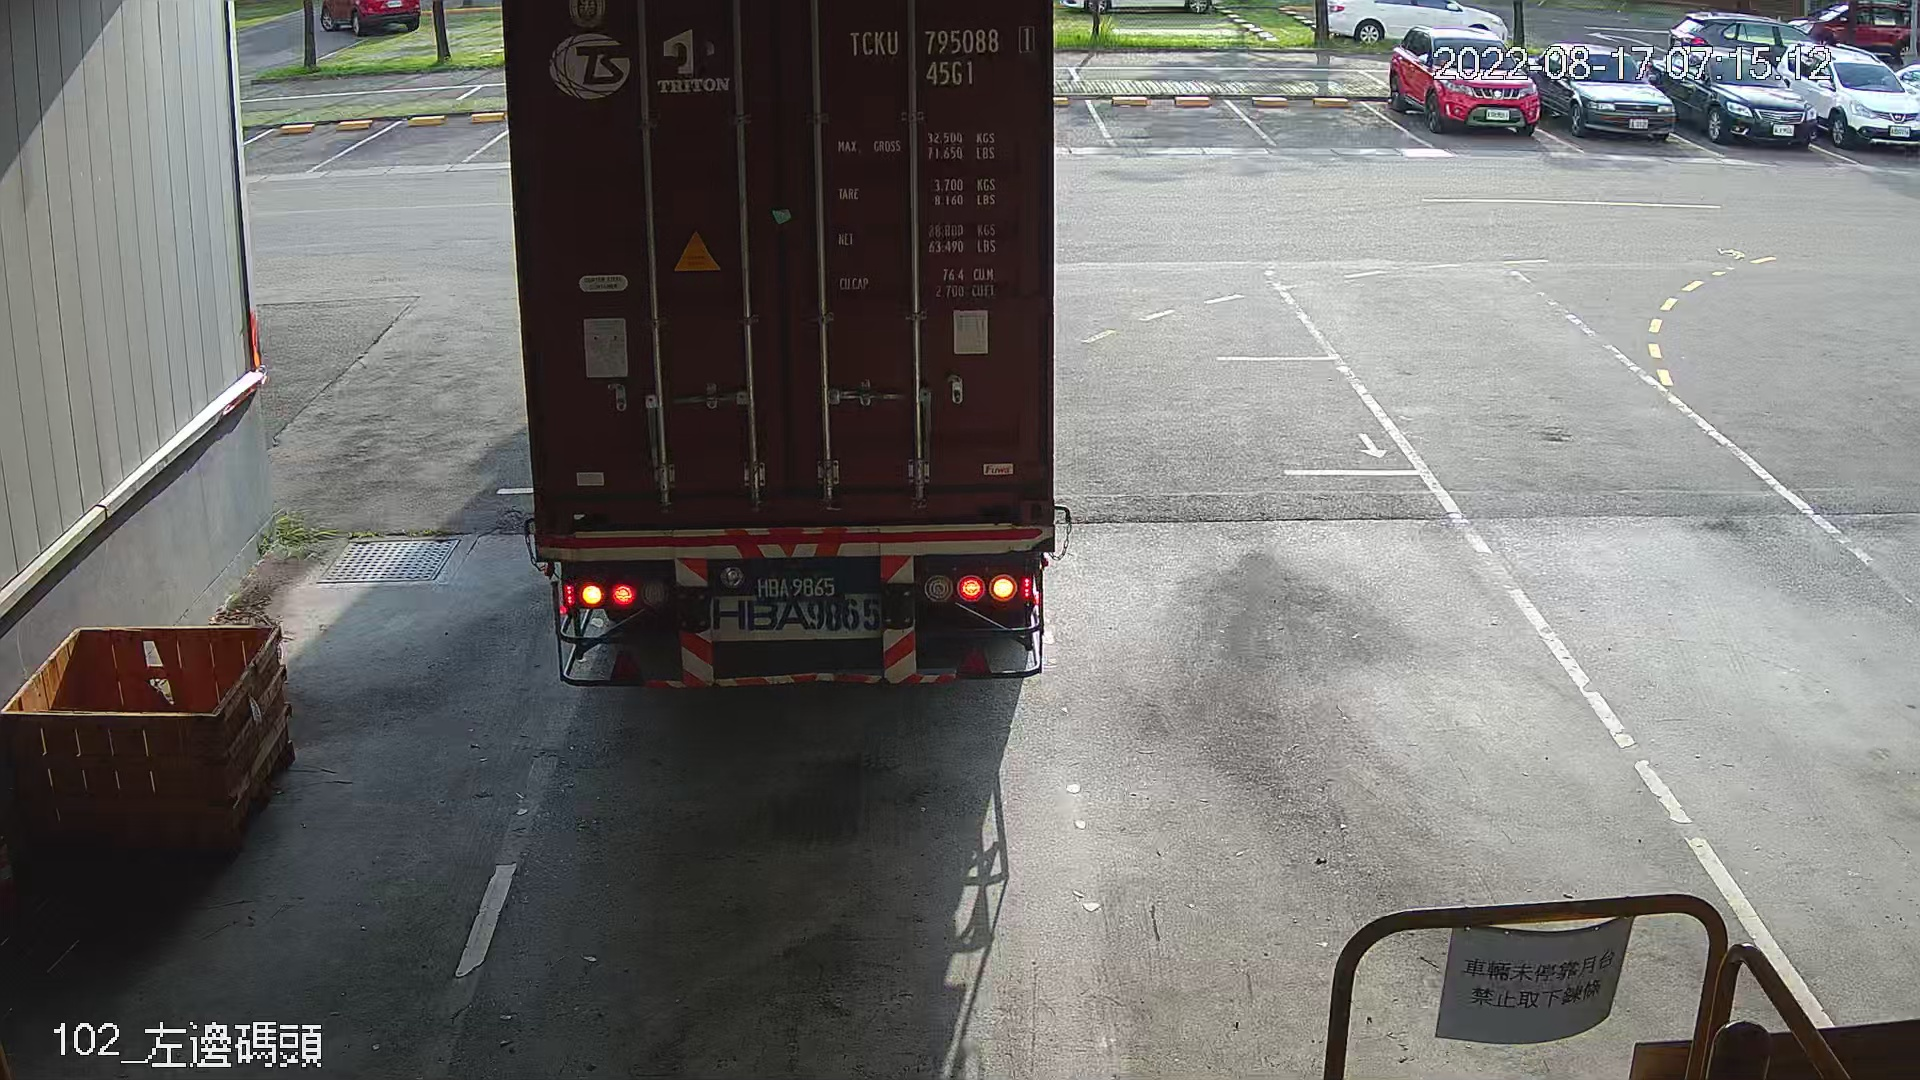container: (837, 18, 1044, 91)
